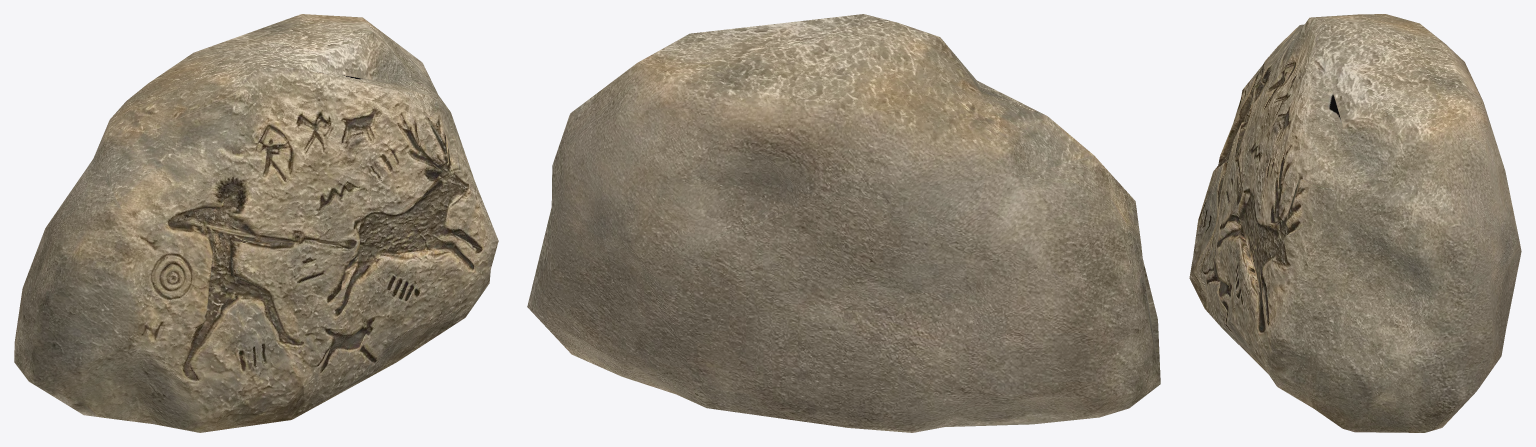
Rendered from rock-drawings.glb.
The picture shows the model from 3 angles, left to right: view 1: azimuth 30°, elevation 25°; view 2: azimuth 150°, elevation 25°; view 3: azimuth 270°, elevation 25°; orthographic projection. The views are drawn at different scales.
Visible parts, largest first — view 1: Mesh1.0; view 2: Mesh1.0; view 3: Mesh1.0.
Boxes of the visible parts, x1,y1,x2,y2 form: Mesh1.0: (14, 14, 498, 432); Mesh1.0: (527, 14, 1160, 432); Mesh1.0: (1189, 14, 1521, 432).
Size of the model in its own units: 1.88 by 1.13 by 1.11.
Materials: 1 (1 with a texture image).
